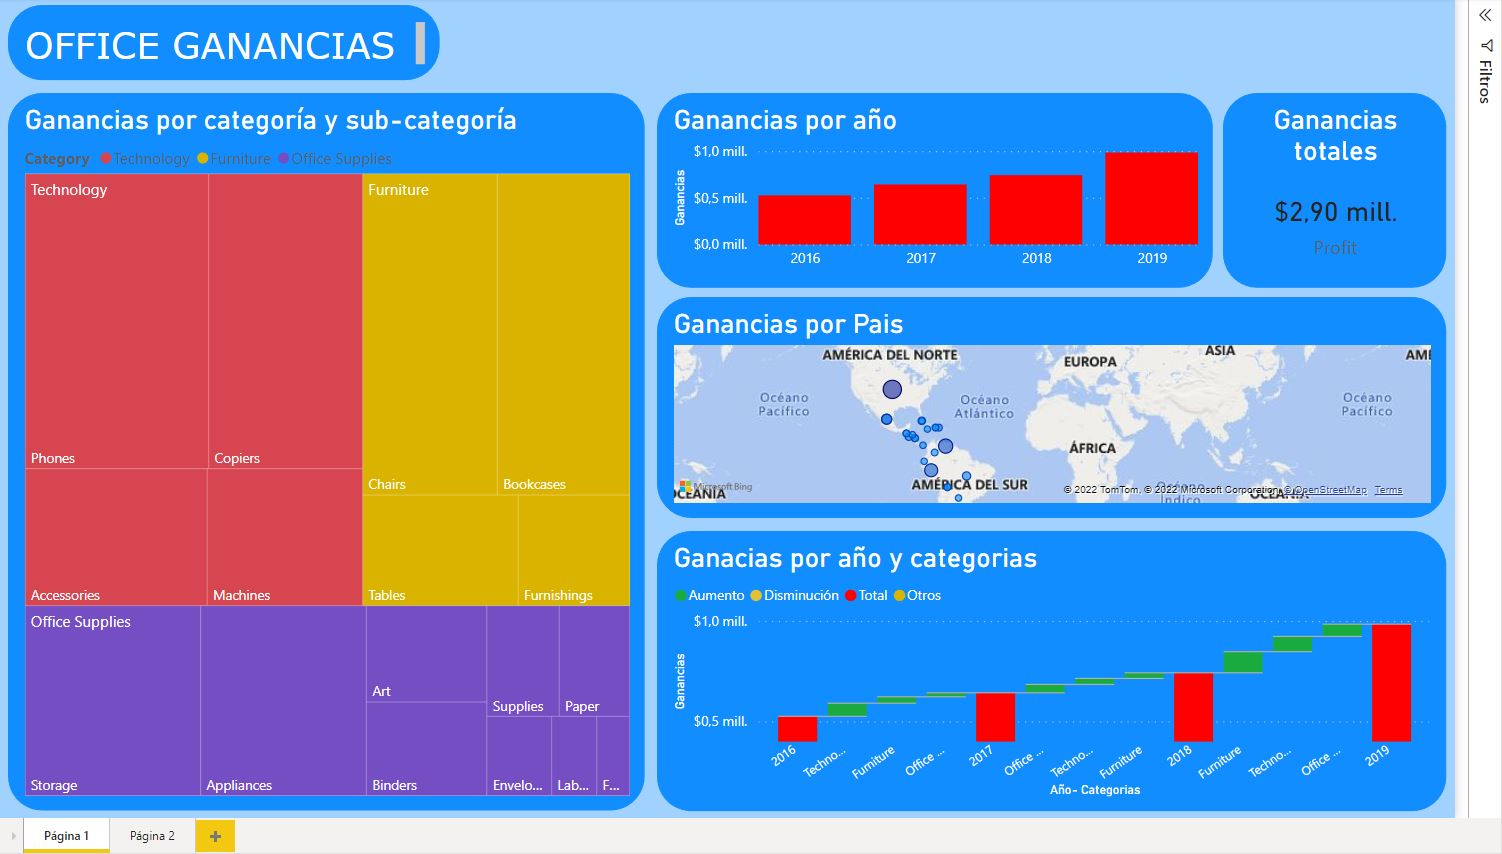

The page's visual inventory and layout, read from the dashboard file:
{"tool":"powerbi","page":{"name":"Página 1","canvas":[1280,720],"ordinal":0},"visuals":[{"type":"treemap","title":"Ganancias por categoría y sub-categoría","fields":{"Values":["Sum(Global Superstore.Profit)"],"Group":["TablaProductDetails.Category"],"Details":["TablaProductDetails.Sub-Category"]},"box":[9.7,83.4,559.3,630.4],"z":0},{"type":"map","title":"Ganancias por Pais","fields":{"Category":["Global Superstore.Country"],"Size":["Sum(Global Superstore.Profit)"]},"box":[579.5,262.5,692.8,194],"z":1000},{"type":"clusteredColumnChart","title":"Ganancias por año","fields":{"Y":["Sum(Global Superstore.Profit)"],"Category":["Global Superstore.Order Date.Variación.Date Hierarchy.Year","Global Superstore.Order Date.Variación.Date Hierarchy.Month","Global Superstore.Order Date.Variación.Date Hierarchy.Day"]},"box":[579.5,83.4,488.2,171.2],"z":2000},{"type":"waterfallChart","title":"Ganacias por año y categorias","fields":{"Y":["Sum(Global Superstore.Profit)"],"Category":["Global Superstore.Order Date.Variación.Date Hierarchy.Year","Global Superstore.Order Date.Variación.Date Hierarchy.Quarter","Global Superstore.Order Date.Variación.Date Hierarchy.Month","Global Superstore.Order Date.Variación.Date Hierarchy.Day","TablaProductDetails.Category"],"Breakdown":["TablaProductDetails.Category"]},"box":[579.5,468,692.8,245.9],"z":3000},{"type":"card","title":"Ganancias totales","fields":{"Values":["Sum(Global Superstore.Profit)"]},"box":[1076.5,83.4,195.8,171.2],"z":4000},{"type":"textbox","box":[9.7,6.1,378.4,65.9],"z":5000}]}

Visuals, with their boxes in screenshot pixels (x1, y1, x2, y2):
"Ganancias por categoría y sub-categoría" treemap: locate(0, 85, 647, 814)
"Ganancias por Pais" map: locate(659, 292, 1461, 517)
"Ganancias por año" clusteredColumnChart: locate(659, 85, 1224, 283)
"Ganacias por año y categorias" waterfallChart: locate(659, 530, 1461, 814)
"Ganancias totales" card: locate(1234, 85, 1461, 283)
textbox: locate(0, 0, 437, 72)
